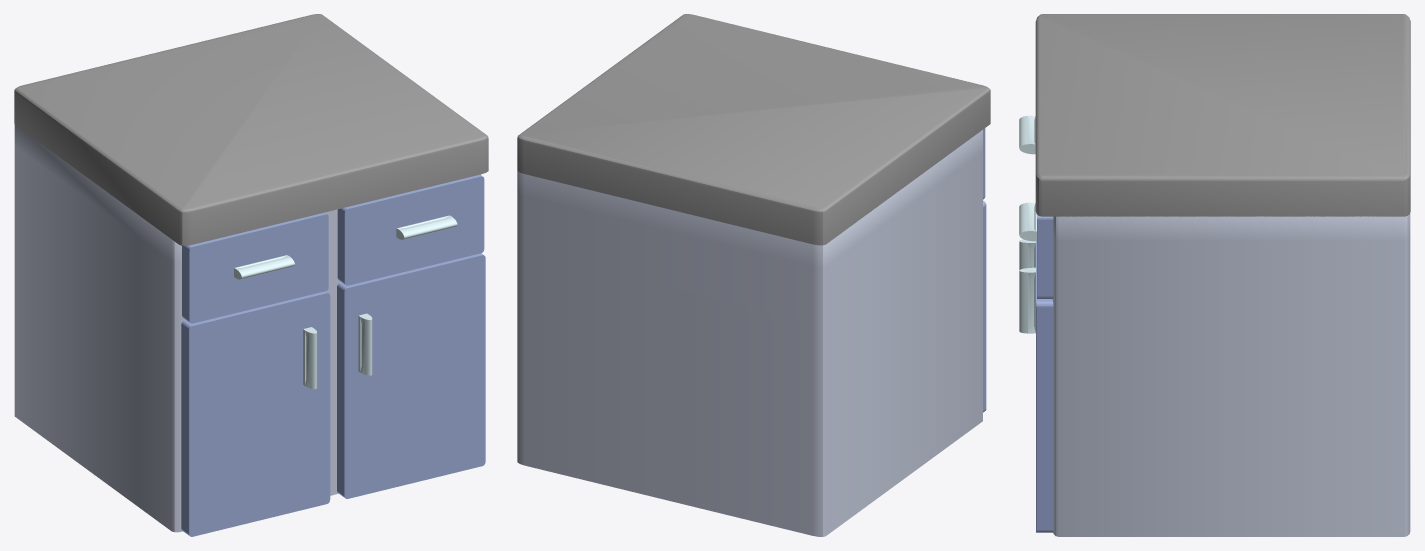
File: ShortCupboard.fbx
3 renders of one model, left to right at view 1: azimuth 30°, elevation 25°; view 2: azimuth 150°, elevation 25°; view 3: azimuth 270°, elevation 25°, orthographic. The views are drawn at different scales.
Parts seen in each view (by area): view 1: Short_Cupboard; view 2: Short_Cupboard; view 3: Short_Cupboard.
Part boxes in pixels (x1,y1,x2,y2): Short_Cupboard: [14, 14, 488, 536]; Short_Cupboard: [517, 14, 990, 536]; Short_Cupboard: [1019, 14, 1410, 536].
Size of the model in its own units: 82.89 by 84.01 by 82.93.
1 material, 1 textured.
